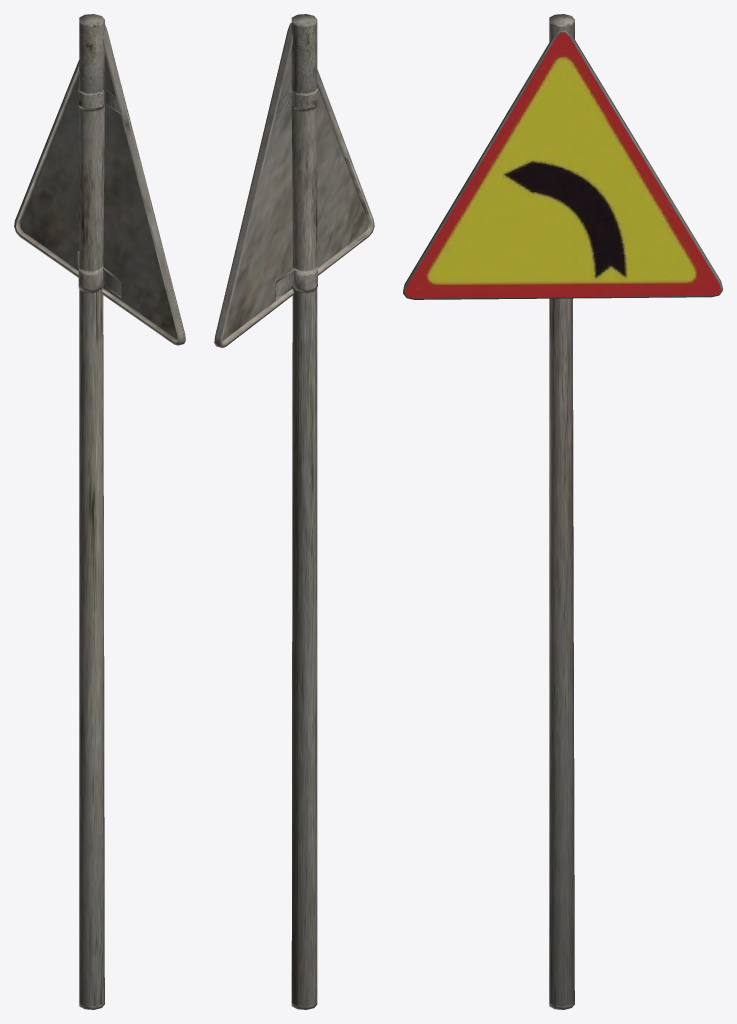
The model's file is znakiOstryLewo.dae.
3 renders of one model, left to right at view 1: azimuth 30°, elevation 25°; view 2: azimuth 150°, elevation 25°; view 3: azimuth 270°, elevation 25°, orthographic.
Visible parts, largest first — view 1: znakOstryLewo_a65; view 2: znakOstryLewo_a65; view 3: znakOstryLewo_a65.
Boxes of the visible parts, bbox=[...] form: znakOstryLewo_a65: bbox=[14, 14, 185, 1009]; znakOstryLewo_a65: bbox=[214, 14, 374, 1009]; znakOstryLewo_a65: bbox=[403, 14, 722, 1009].
Size of the model in its own units: 0.0577 by 0.5889 by 2.
1 material, 1 textured.
